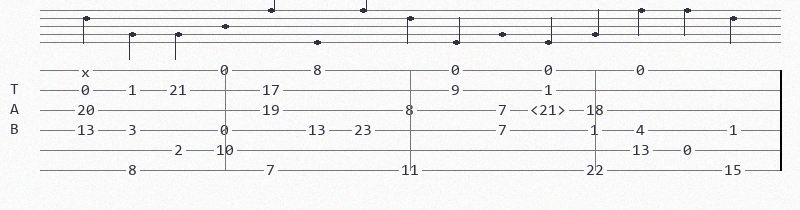0: (81, 83, 94, 97), (220, 123, 233, 137), (220, 63, 233, 77), (451, 63, 464, 77), (544, 63, 557, 77), (636, 63, 649, 77), (683, 143, 696, 157)
1: (128, 83, 141, 97), (544, 83, 557, 97), (590, 123, 603, 137), (729, 123, 742, 137)
10: (216, 143, 238, 157)
11: (401, 163, 423, 177)
13: (77, 123, 99, 137), (308, 123, 330, 137), (632, 143, 654, 157)
15: (724, 163, 746, 177)
17: (262, 83, 284, 97)
18: (586, 103, 608, 117)
19: (262, 103, 284, 117)
2: (174, 143, 187, 157)
20: (77, 103, 99, 117)
21: (169, 83, 191, 97)
22: (586, 163, 608, 177)
23: (354, 123, 376, 137)
3: (128, 123, 141, 137)
4: (636, 123, 649, 137)
7: (266, 163, 279, 177), (498, 103, 511, 117), (498, 123, 511, 137)
8: (128, 163, 141, 177), (313, 63, 326, 77), (405, 103, 418, 117)
9: (451, 83, 464, 97)
harmonic: (530, 103, 570, 117)
x: (81, 65, 94, 76)
